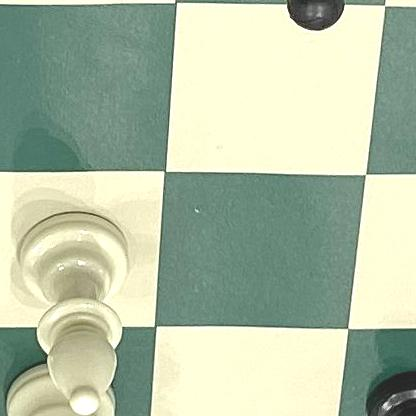black-pawn: (238, 0, 370, 53)
white-bishop: (0, 202, 149, 416)
white-rook: (0, 351, 129, 416)
